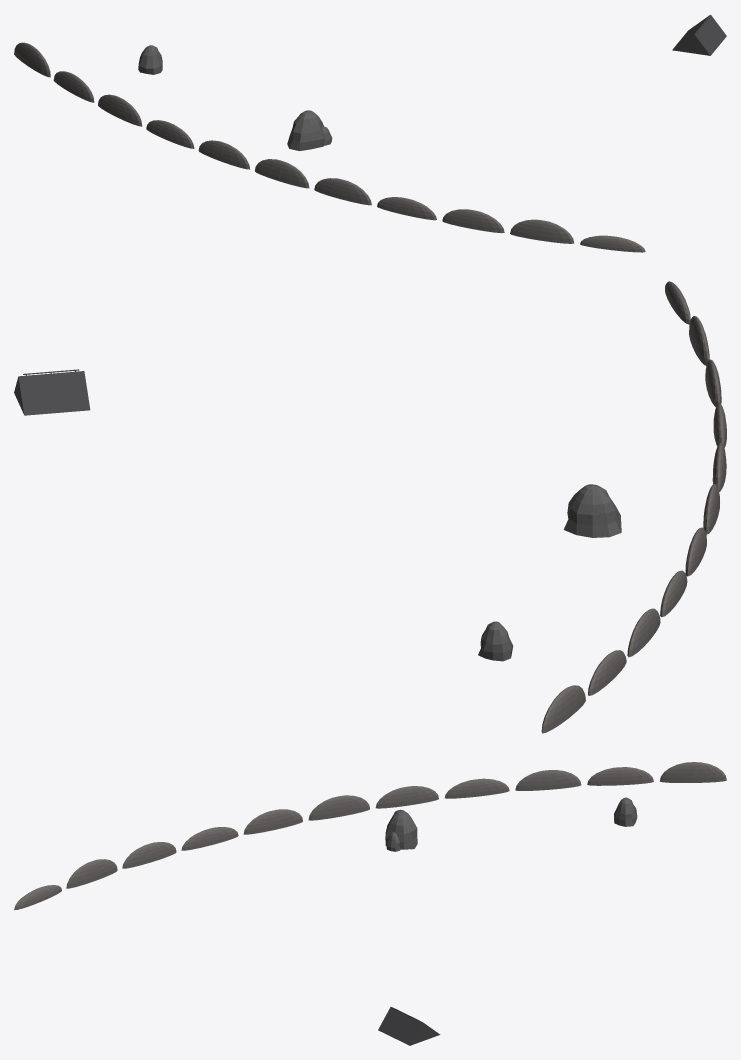
File: SM_City_MukhayyamAlNiran_4.fbx
3 renders of one model, top to bottom at view 1: azimuth 30°, elevation 25°; view 2: azimuth 150°, elevation 25°; view 3: azimuth 270°, elevation 25°, orthographic. The views are drawn at different scales.
Visible parts, largest first — view 1: SM_City_MukhayyamAlNiran_4; view 2: SM_City_MukhayyamAlNiran_4; view 3: SM_City_MukhayyamAlNiran_4.
Boxes of the visible parts, x1,y1,x2,y2 form: SM_City_MukhayyamAlNiran_4: (14, 14, 726, 252); SM_City_MukhayyamAlNiran_4: (14, 281, 726, 733); SM_City_MukhayyamAlNiran_4: (14, 762, 726, 1045).
Bounding box in the file's own units: 7767 × 421 × 8765.
4 materials, 4 textured.
